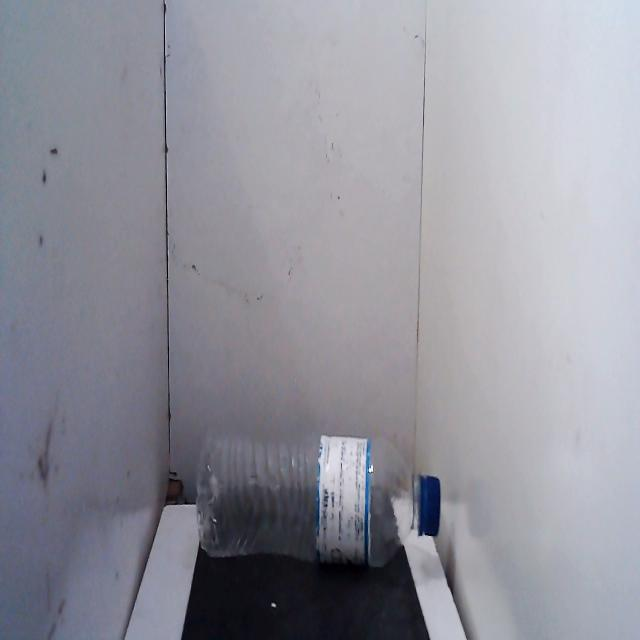plastic: (184, 414, 446, 574)
